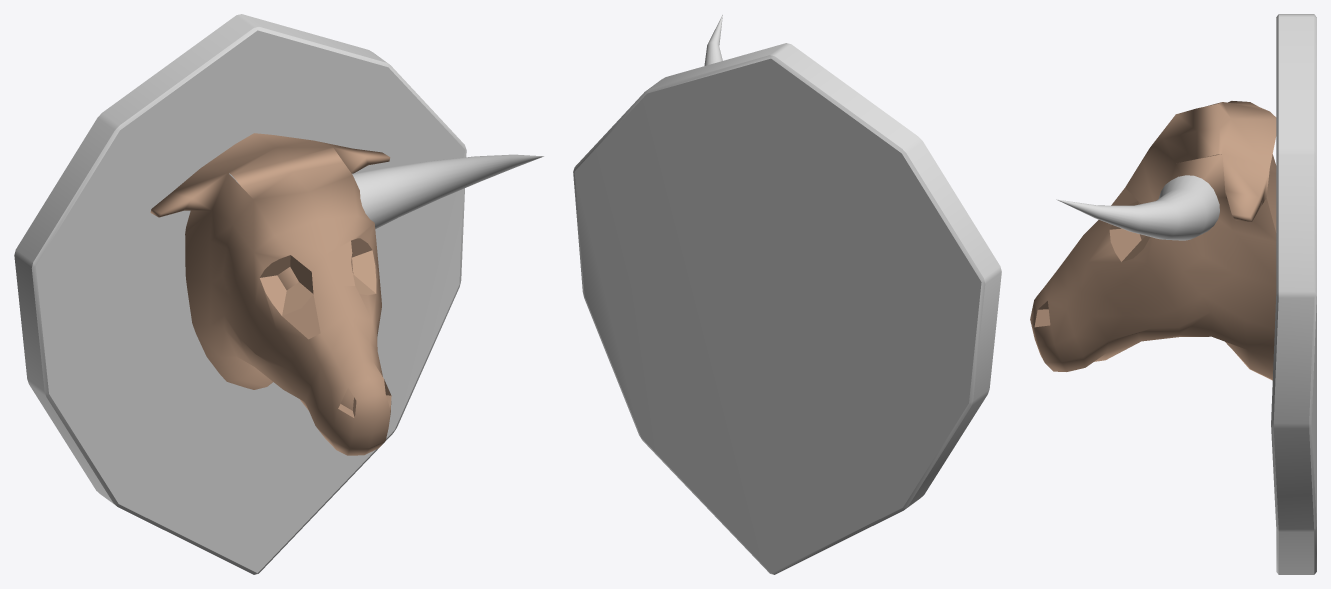
File: Bull.fbx
3 renders of one model, left to right at view 1: azimuth 30°, elevation 25°; view 2: azimuth 150°, elevation 25°; view 3: azimuth 270°, elevation 25°, orthographic. The views are drawn at different scales.
Parts seen in each view (by area): view 1: Cylinder005, bull, Cone008; view 2: Cylinder005; view 3: bull, Cylinder005, Cone008.
Boxes of the visible parts, <box> form: Cylinder005: <box>14,14,466,574</box>; bull: <box>150,133,391,455</box>; Cone008: <box>352,154,543,228</box>; Cylinder005: <box>573,43,1001,574</box>; bull: <box>1030,101,1276,380</box>; Cylinder005: <box>1271,14,1316,574</box>; Cone008: <box>1056,175,1219,240</box>.
Bounding box in the file's own units: 104 × 125 × 58.18.
